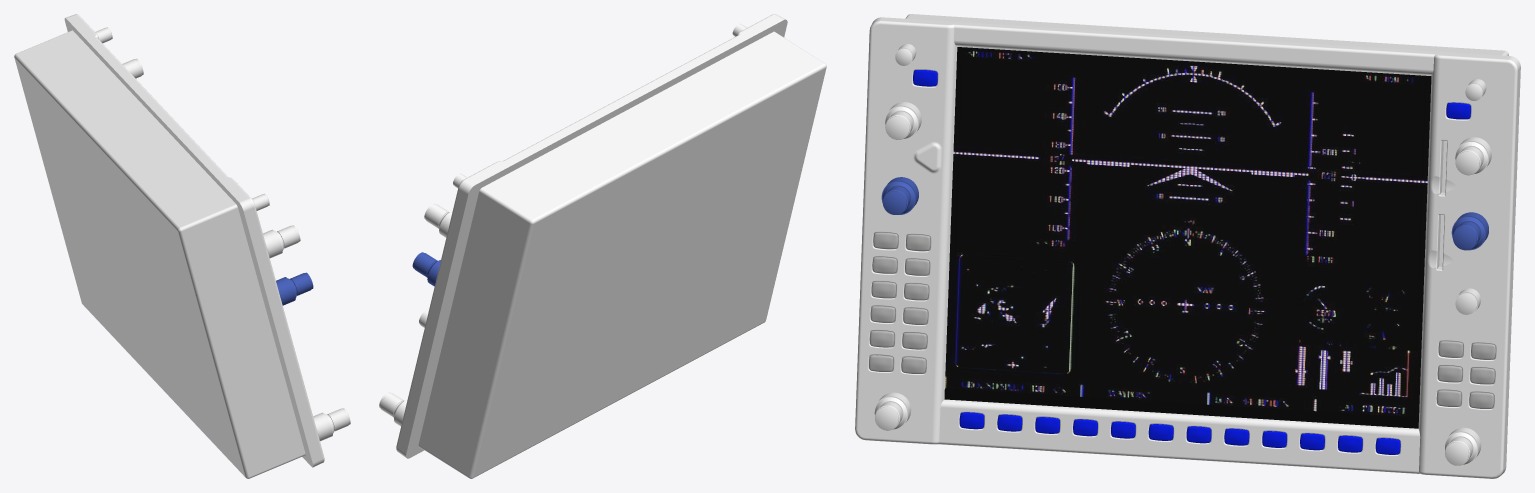
Rendered from display_compressed.glb.
3 renders of one model, left to right at view 1: azimuth 30°, elevation 25°; view 2: azimuth 150°, elevation 25°; view 3: azimuth 270°, elevation 25°, orthographic. The views are drawn at different scales.
Visible parts, largest first — view 1: obj11, obj1, obj5, obj6, obj7; view 2: obj11, obj1, obj9, obj10, obj8; view 3: obj12, obj1, Cube.002, Cube, obj11, Cube.001, obj5, obj10, obj9, obj8, obj7, obj6.
Boxes of the visible parts, x1,y1,x2,y2 form: obj11: (14, 30, 305, 478); obj1: (64, 14, 324, 467); obj5: (313, 408, 350, 441); obj6: (276, 272, 313, 305); obj7: (263, 225, 300, 258); obj11: (418, 31, 826, 478); obj1: (396, 14, 787, 458); obj9: (412, 252, 440, 286); obj10: (424, 203, 452, 237); obj8: (379, 392, 407, 426); obj12: (944, 47, 1431, 428); obj1: (855, 17, 1520, 478); Cube.002: (869, 232, 930, 373); Cube: (959, 412, 1400, 454); obj11: (905, 14, 1508, 55); Cube.001: (1436, 341, 1495, 408); obj5: (873, 392, 911, 430); obj10: (1454, 137, 1491, 175); obj9: (1451, 212, 1488, 250); obj8: (1444, 427, 1481, 465); obj7: (884, 102, 921, 139); obj6: (881, 177, 918, 214).
Bounding box in the file's own units: 7.77 × 9.87 × 15.32.
7 materials, 1 textured.
